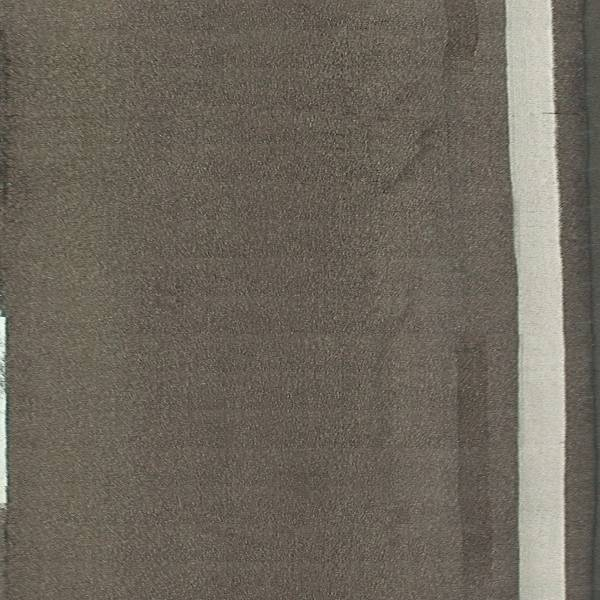road_damage: (318, 110, 397, 200)
